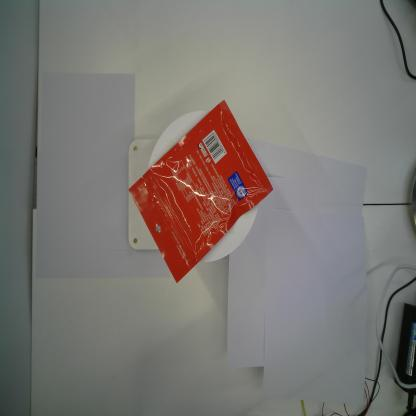Dried Fruit: (127, 97, 273, 284)
